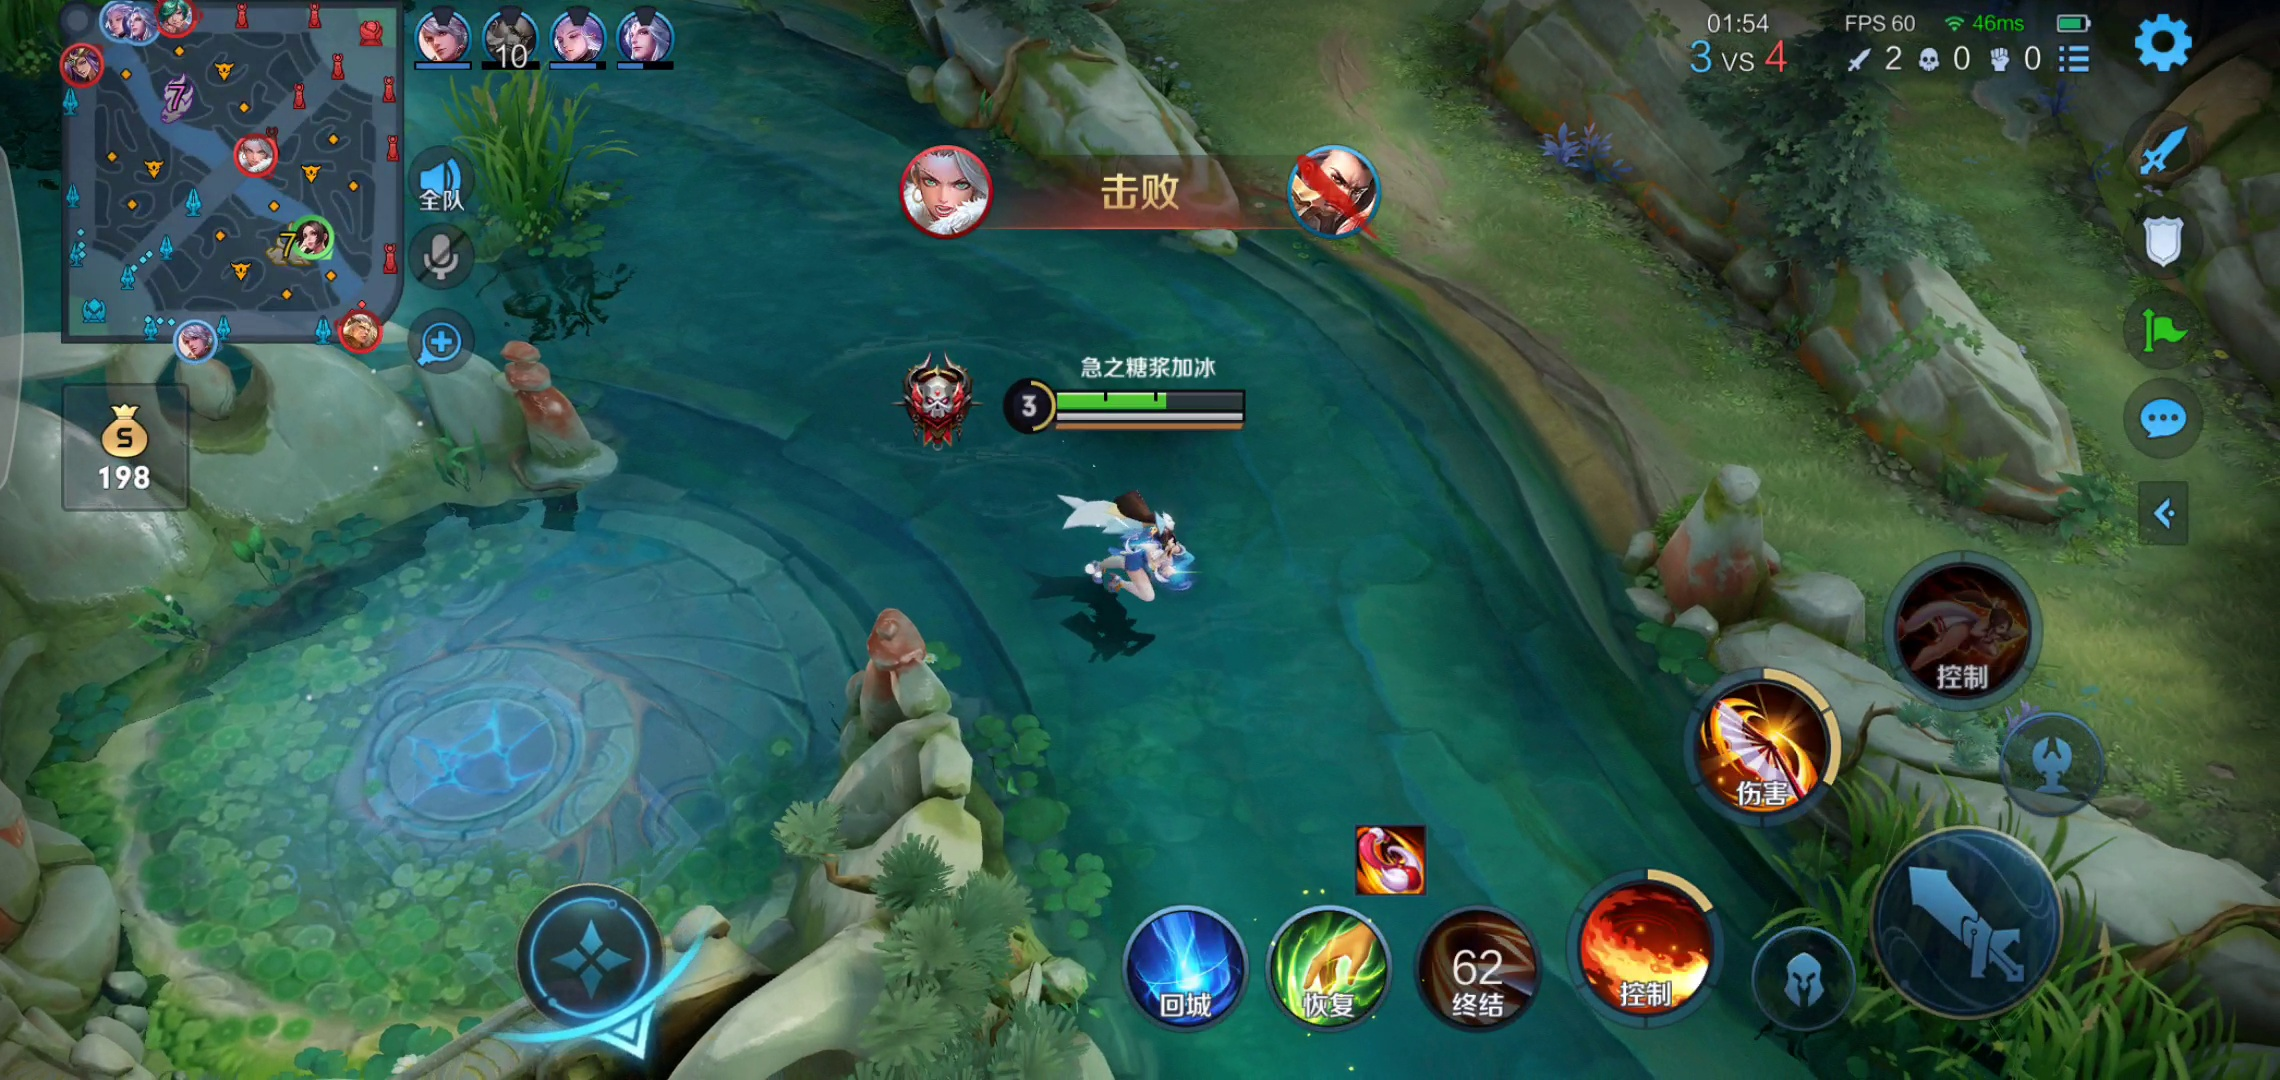grass: (1768, 749, 2220, 1079), (417, 73, 627, 269)
hero: (1029, 474, 1223, 619)
